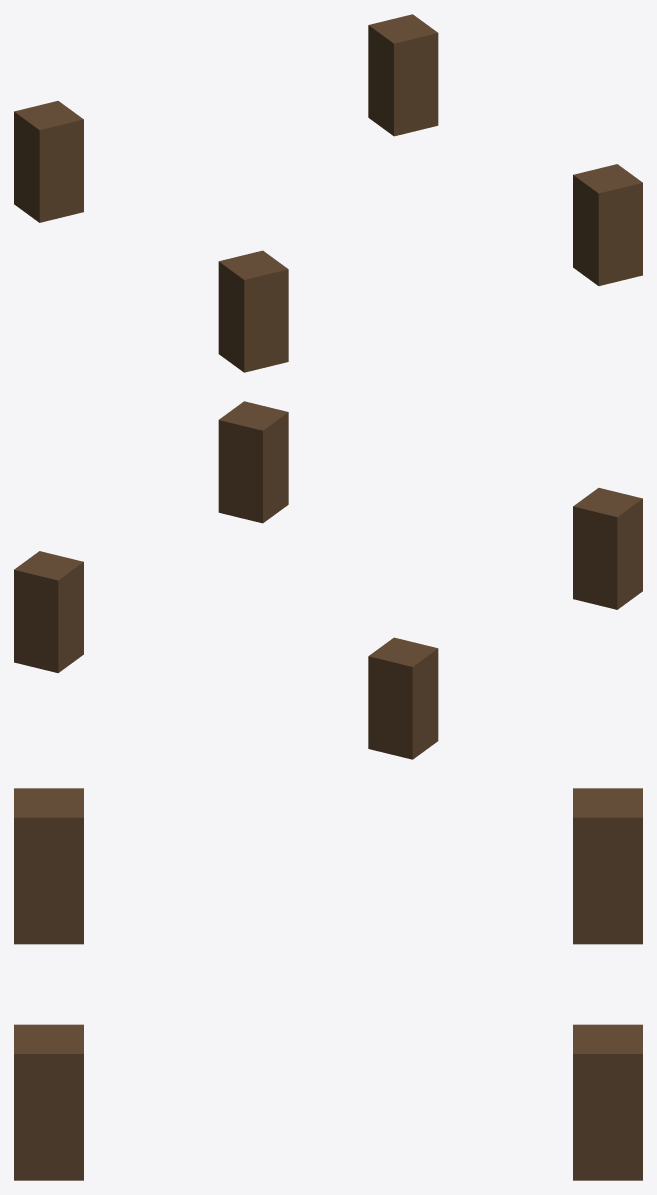
The model's file is Playground Stilts.fbx.
3 views of the same model, one above another, from view 1: azimuth 30°, elevation 25°; view 2: azimuth 150°, elevation 25°; view 3: azimuth 270°, elevation 25° (orthographic). The views are drawn at different scales.
Visible parts, largest first — view 1: Playground Stilts; view 2: Playground Stilts; view 3: Playground Stilts.
Part boxes in pixels (left/top/right/bottom): Playground Stilts: left=14, top=14, right=642, bottom=372; Playground Stilts: left=14, top=401, right=642, bottom=759; Playground Stilts: left=14, top=788, right=642, bottom=1180.
Bounding box in the file's own units: 900 × 200 × 900.
